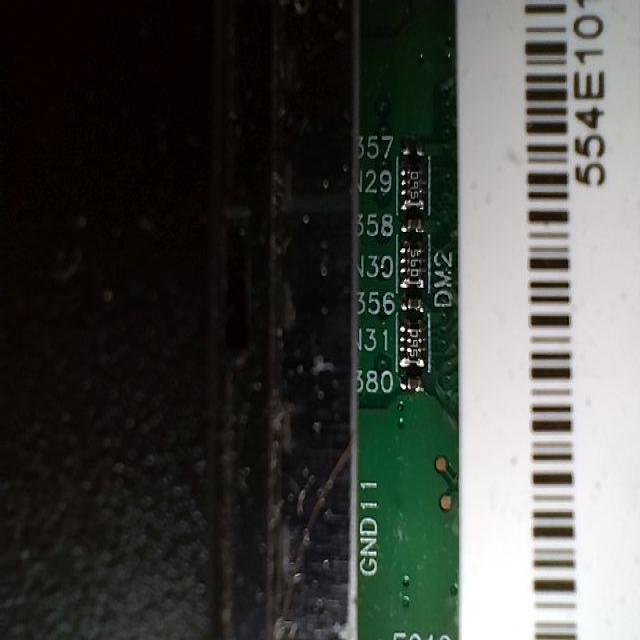resistor: (389, 224, 437, 297), (394, 303, 435, 387), (396, 148, 438, 218)
